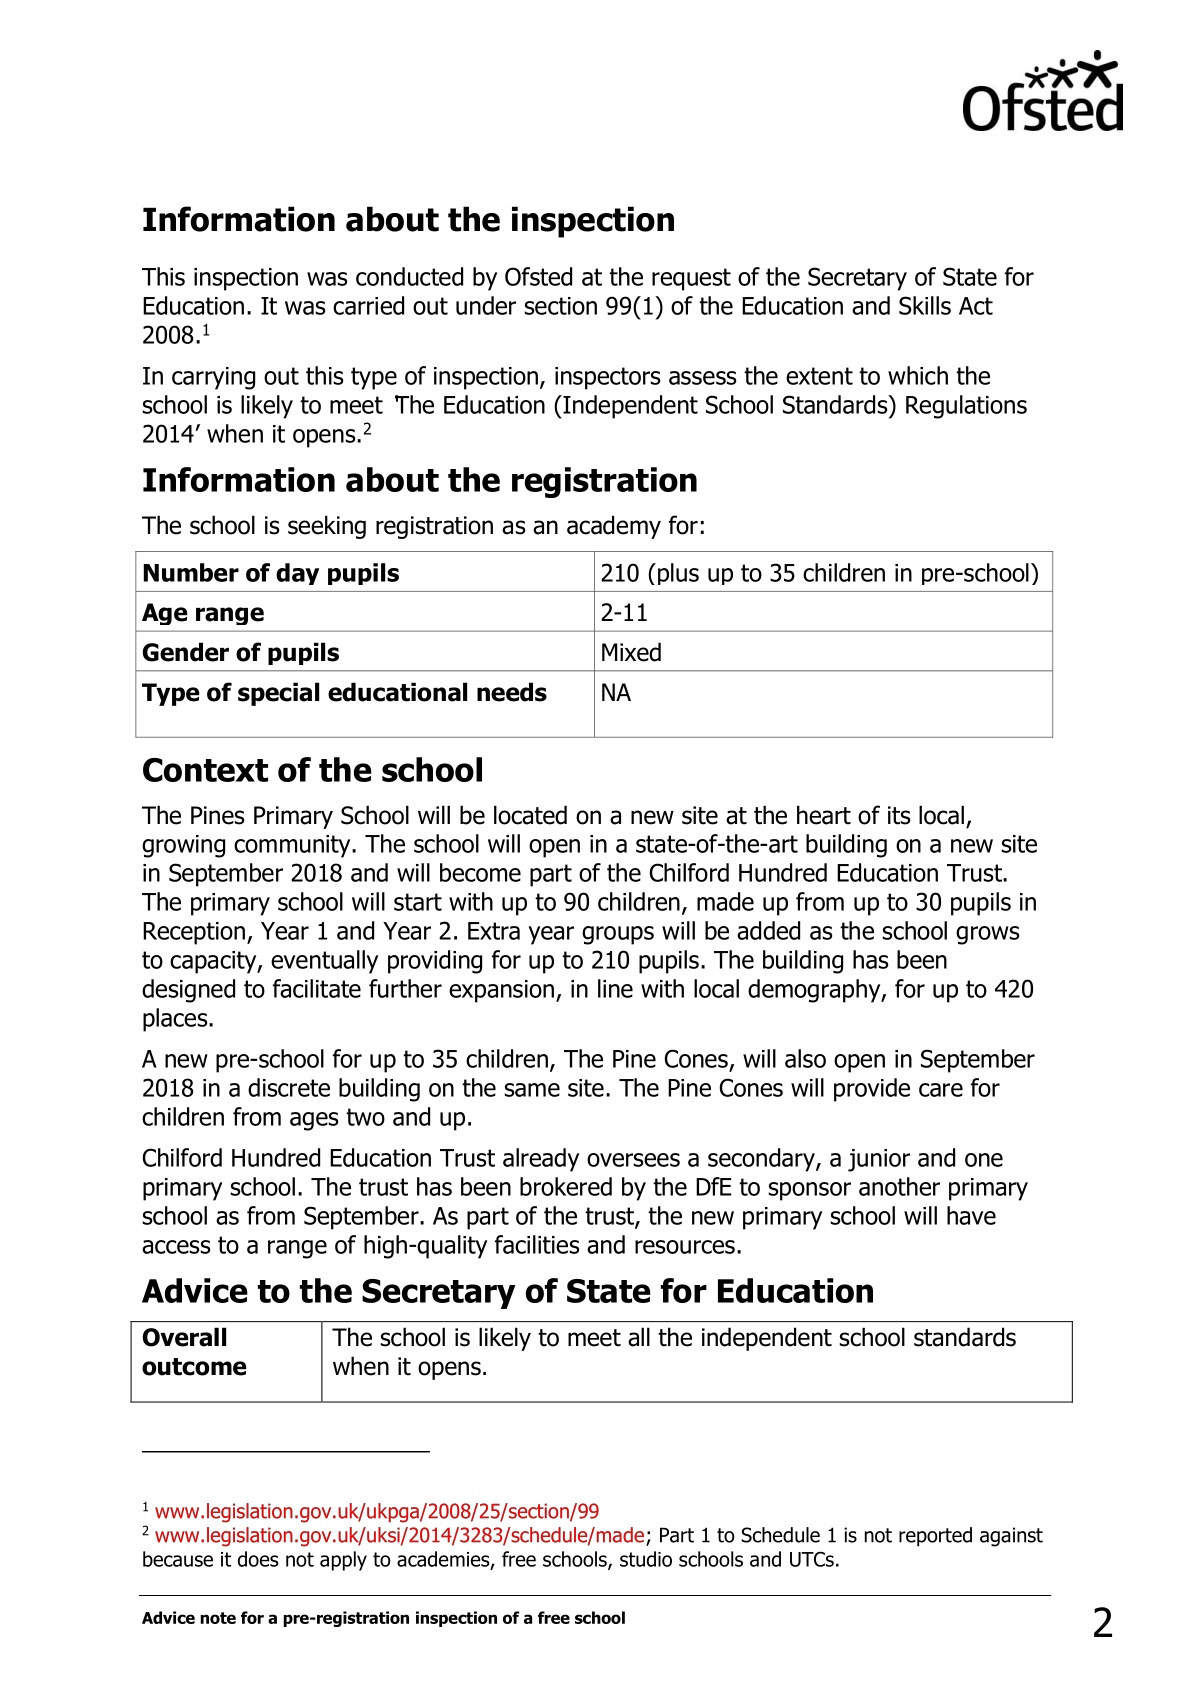full_lined: (134, 550, 1053, 739), (130, 1320, 1073, 1405)
